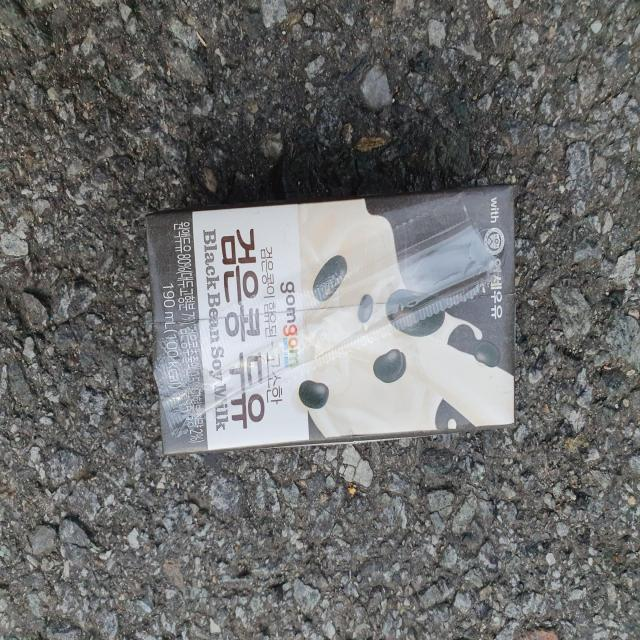paperpack: (146, 185, 515, 454)
